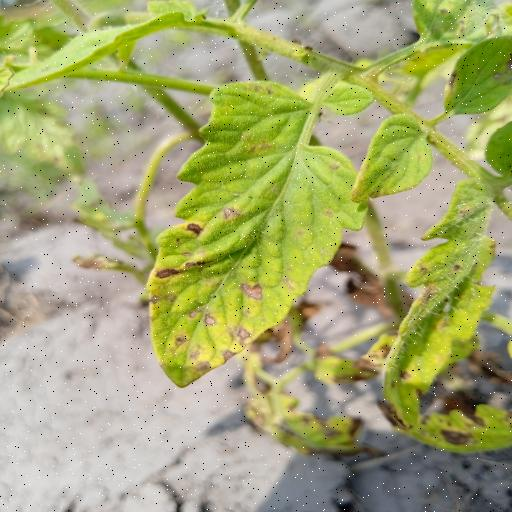Tomato_Brown_Spots: (138, 70, 368, 392)
